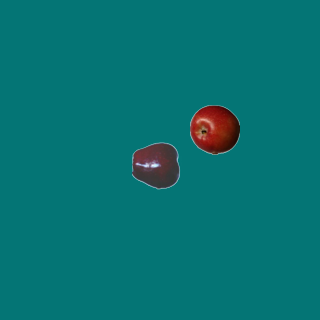Apple Braeburn: (189, 104, 239, 154)
Apple Red Delicious: (131, 140, 181, 190)
